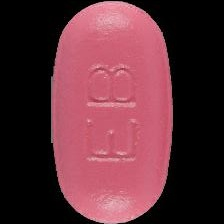50090-0361: (0, 0, 224, 224)
